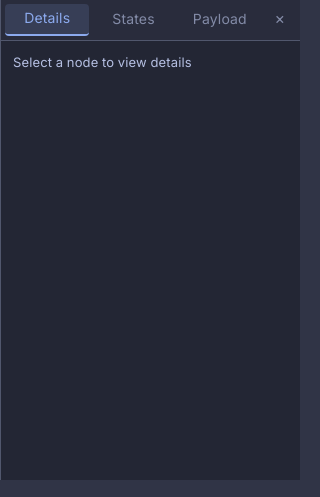
Scenario: InspectorSidebar › switches to states tab
Click the button with test id "inspector-tab-state-machine".
click(133, 20)  # box [91,4,176,36]
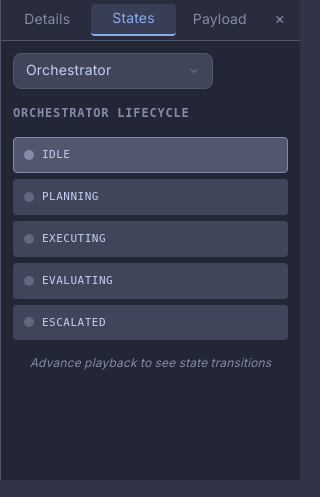
Expected: the element with test id "inspector-widget-state-machine" is shown, [13,53,288,380]
